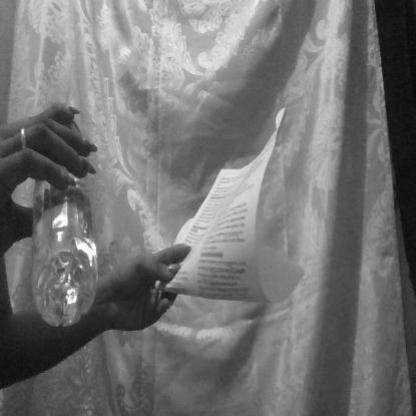Plastic Bottle: (27, 39, 114, 367)
